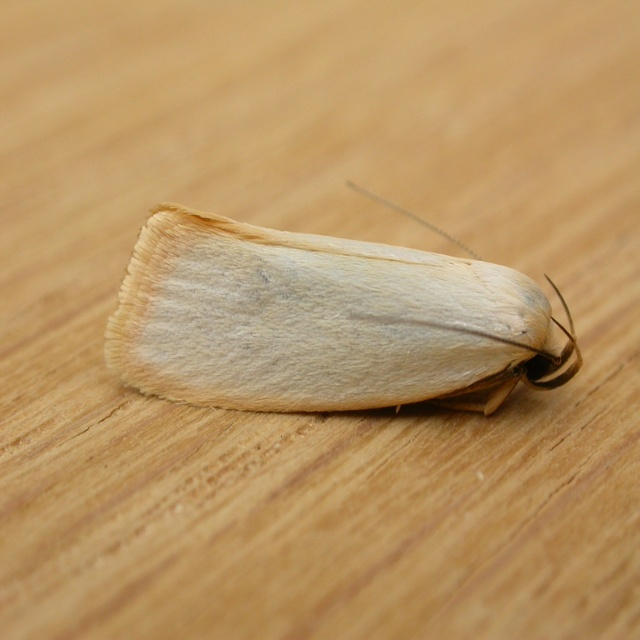Moths and butterflies: (104, 171, 583, 422)
